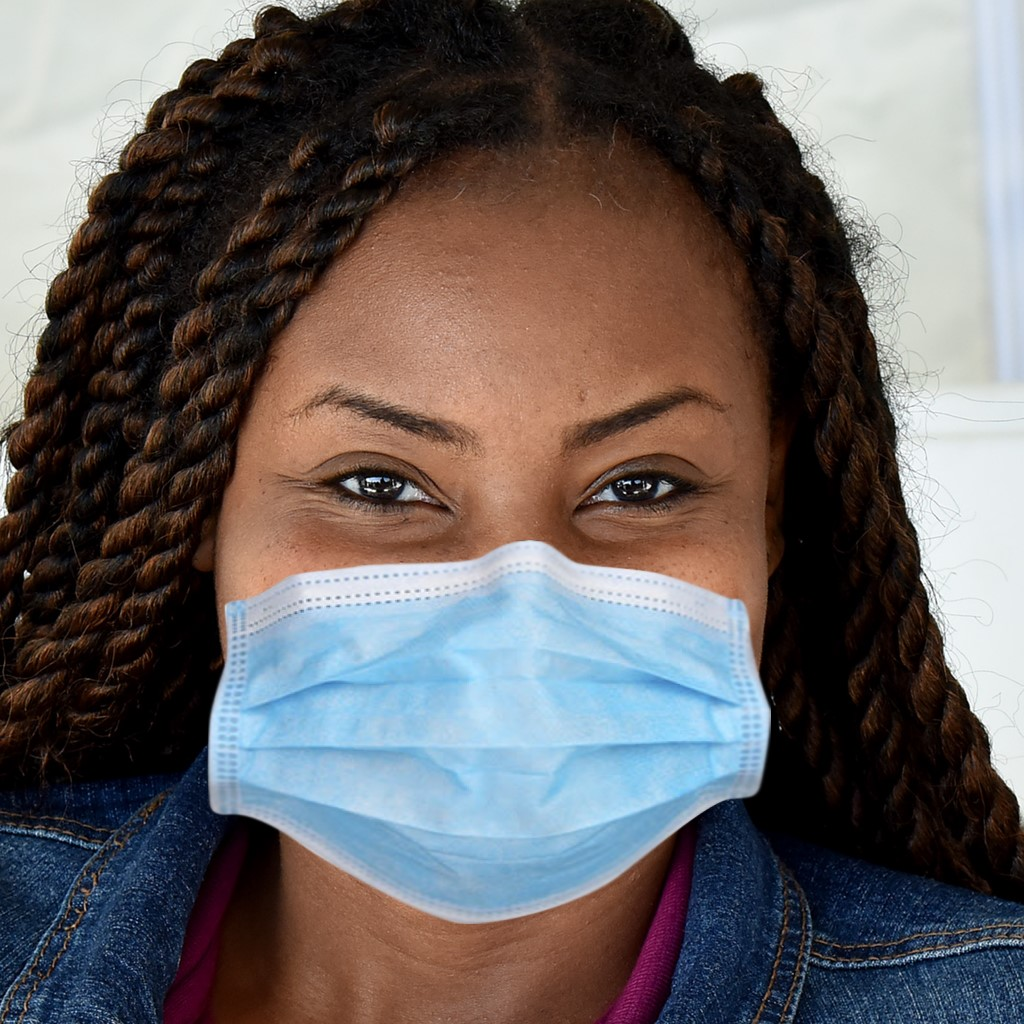con_mascara: (193, 159, 775, 926)
